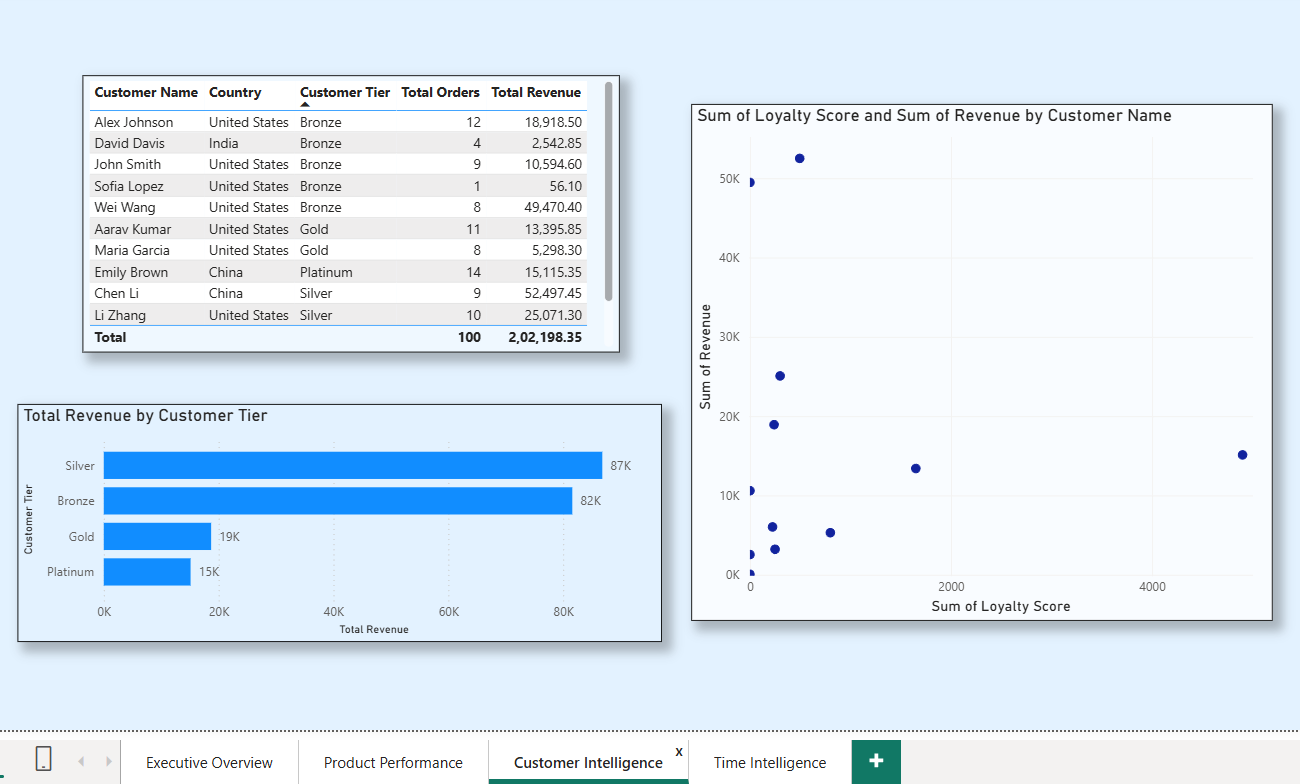

Layout of this report page (visuals, bound fields, positions):
{"tool":"powerbi","page":{"name":"Customer Intelligence","canvas":[1280,720],"ordinal":2},"visuals":[{"type":"scatterChart","fields":{"X":["Sum(clean_sales_analytics_processed.Loyalty Score)"],"Y":["Sum(clean_sales_analytics_processed.Revenue)"],"Category":["clean_sales_analytics_processed.Customer Name"]},"box":[681.4,107.1,568.6,505.7],"z":0},{"type":"barChart","fields":{"Category":["clean_sales_analytics_processed.Customer Tier"],"Y":["clean_sales_analytics_processed.Total Revenue"]},"box":[21.4,401.4,630,232.9],"z":1000},{"type":"tableEx","fields":{"Values":["clean_sales_analytics_processed.Customer Name","clean_sales_analytics_processed.Country","clean_sales_analytics_processed.Customer Tier","clean_sales_analytics_processed.Total Orders","clean_sales_analytics_processed.Total Revenue"]},"box":[85.7,80,525.7,271.4],"z":2000}]}

Visuals, with their boxes on the page's 1280x720 design canvas (x1, y1, x2, y2). These are canvas units, not pixel positions in the 1300x784 screenshot, which may show the page scaled, cropped or inside an application window:
scatterChart - Sum(clean_sales_analytics_processed.Loyalty Score) x Sum(clean_sales_analytics_processed.Revenue): [left=681, top=107, right=1250, bottom=613]
barChart - clean_sales_analytics_processed.Customer Tier x clean_sales_analytics_processed.Total Revenue: [left=21, top=401, right=651, bottom=634]
tableEx - clean_sales_analytics_processed.Customer Name x clean_sales_analytics_processed.Country: [left=86, top=80, right=611, bottom=351]
